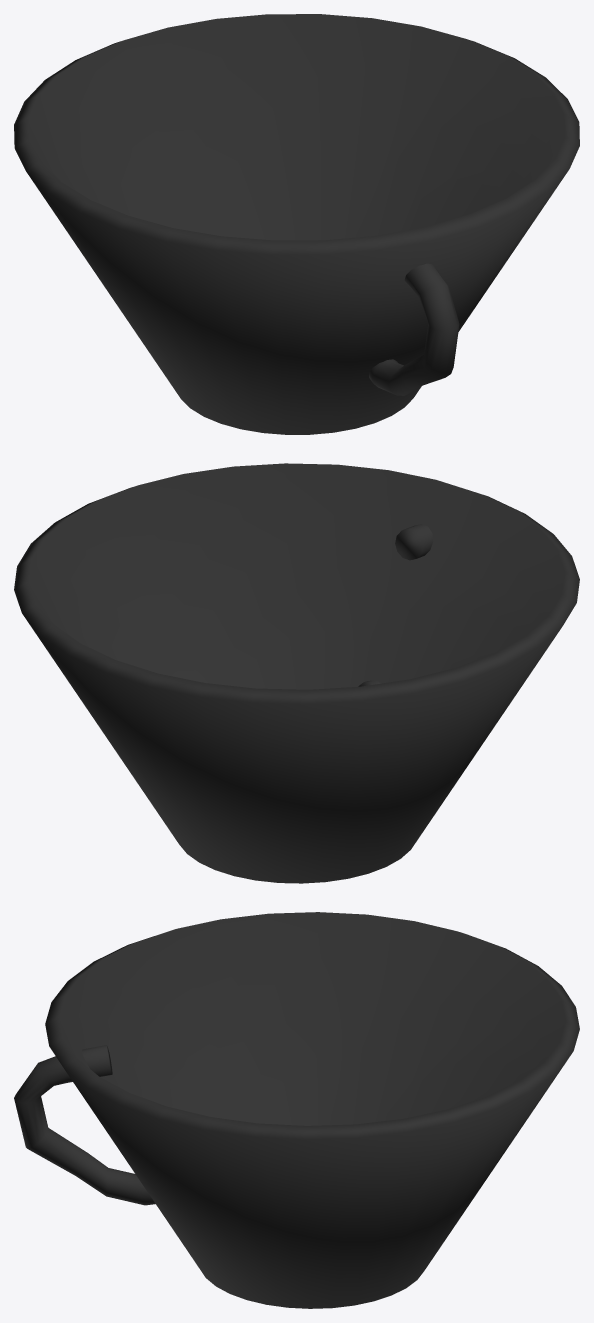
The model's file is cup.fbx.
3 renders of one model, top to bottom at view 1: azimuth 30°, elevation 25°; view 2: azimuth 150°, elevation 25°; view 3: azimuth 270°, elevation 25°, orthographic. The views are drawn at different scales.
Parts seen in each view (by area): view 1: cup; view 2: cup; view 3: cup.
Part boxes in pixels (<box>): cup: <box>14,14,579,434</box>; cup: <box>14,463,579,883</box>; cup: <box>14,912,579,1308</box>.
Size of the model in its own units: 109 by 54.07 by 115.
1 material, 1 textured.
